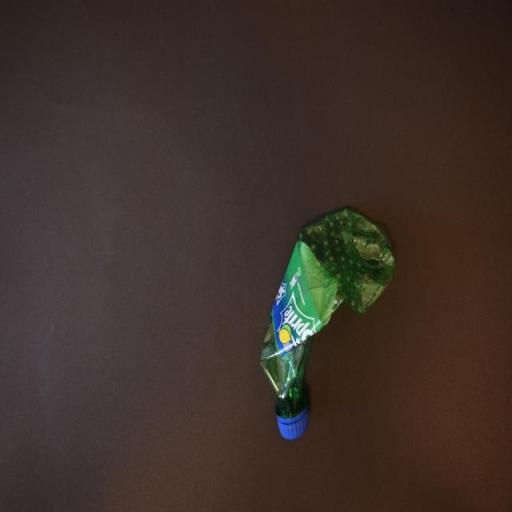plastic: (259, 204, 398, 442)
